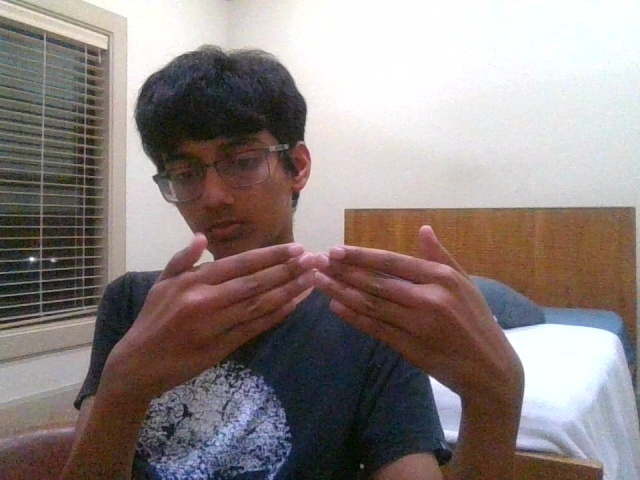thanks: (131, 225, 508, 384)
